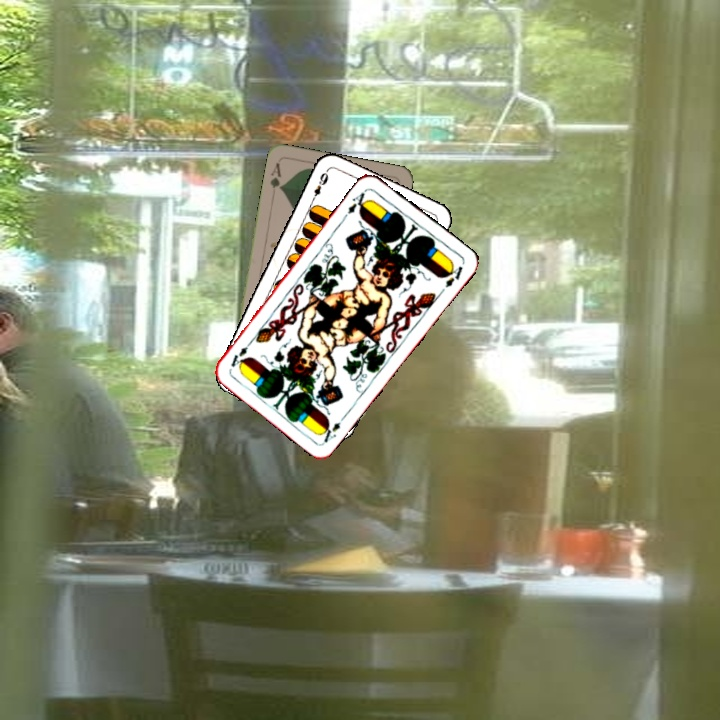E9: (307, 167, 331, 205)
EA: (316, 410, 349, 446), (340, 186, 372, 221)
GA: (266, 159, 285, 198)
